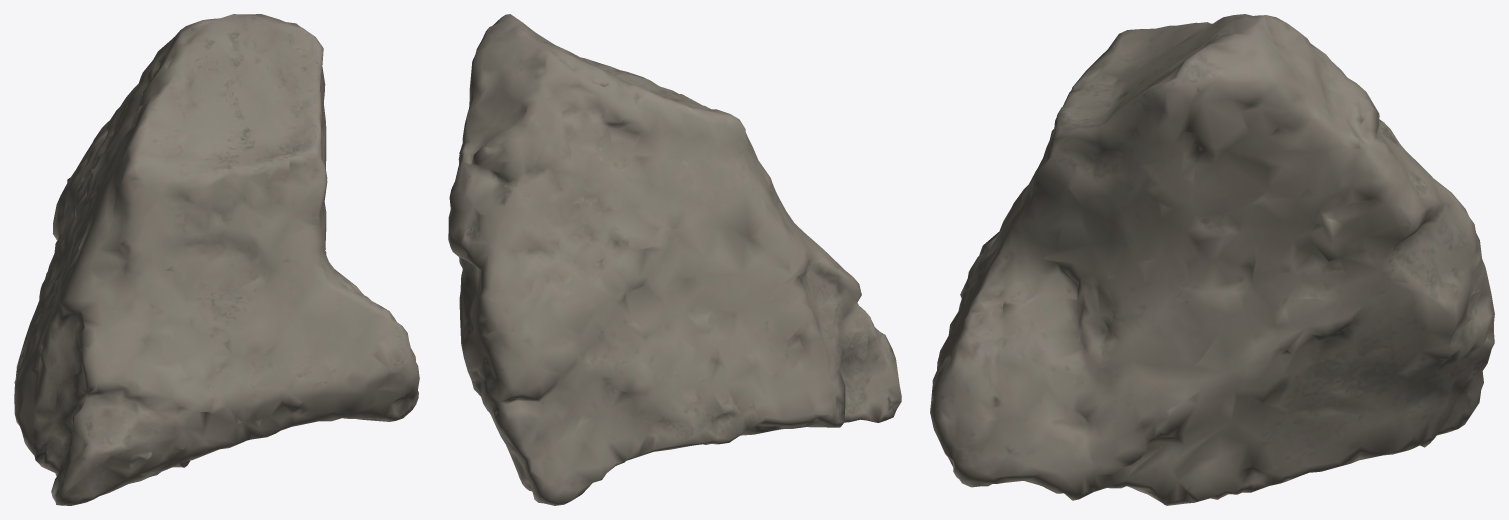
Rendered from moon_rock_05.glb.
3 renders of one model, left to right at view 1: azimuth 30°, elevation 25°; view 2: azimuth 150°, elevation 25°; view 3: azimuth 270°, elevation 25°, orthographic. The views are drawn at different scales.
Parts seen in each view (by area): view 1: moon_rock_05_LOD0; view 2: moon_rock_05_LOD0; view 3: moon_rock_05_LOD0.
Boxes of the visible parts, <box> form: moon_rock_05_LOD0: <box>14,14,419,505</box>; moon_rock_05_LOD0: <box>448,14,901,505</box>; moon_rock_05_LOD0: <box>930,14,1494,505</box>.
Bounding box in the file's own units: 0.0717 × 0.0734 × 0.0811.
Materials: 1 (1 with a texture image).
